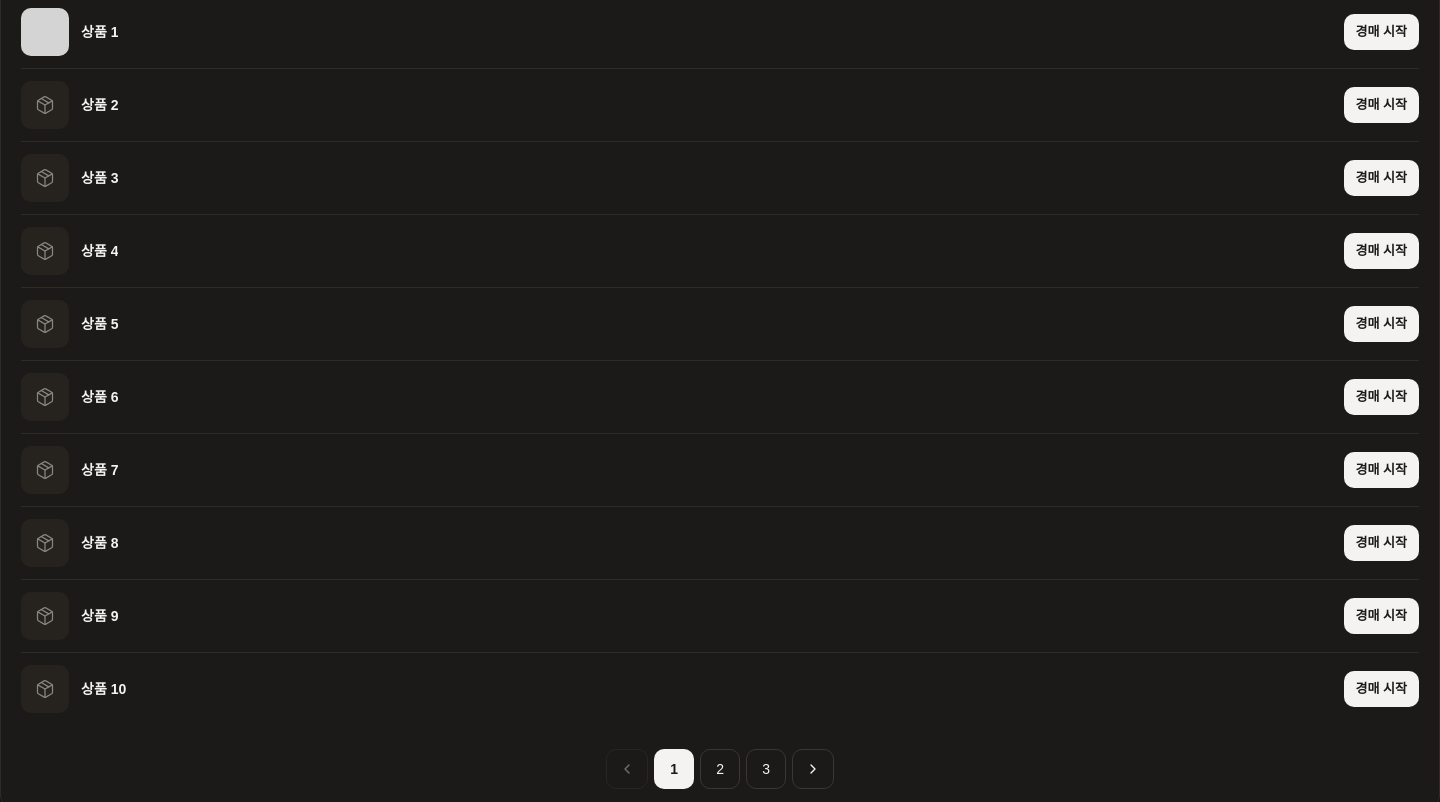
스튜디오 경매 상품 목록 › 판매 중인 상품을 10개씩 페이지로 보여 주고, 대표 이미지를 붙이며, 카테고리로 거른다
(page scrolled)
Click the button named "다음 페이지".
click(813, 769)  # box [792, 749, 834, 789]
(page scrolled)
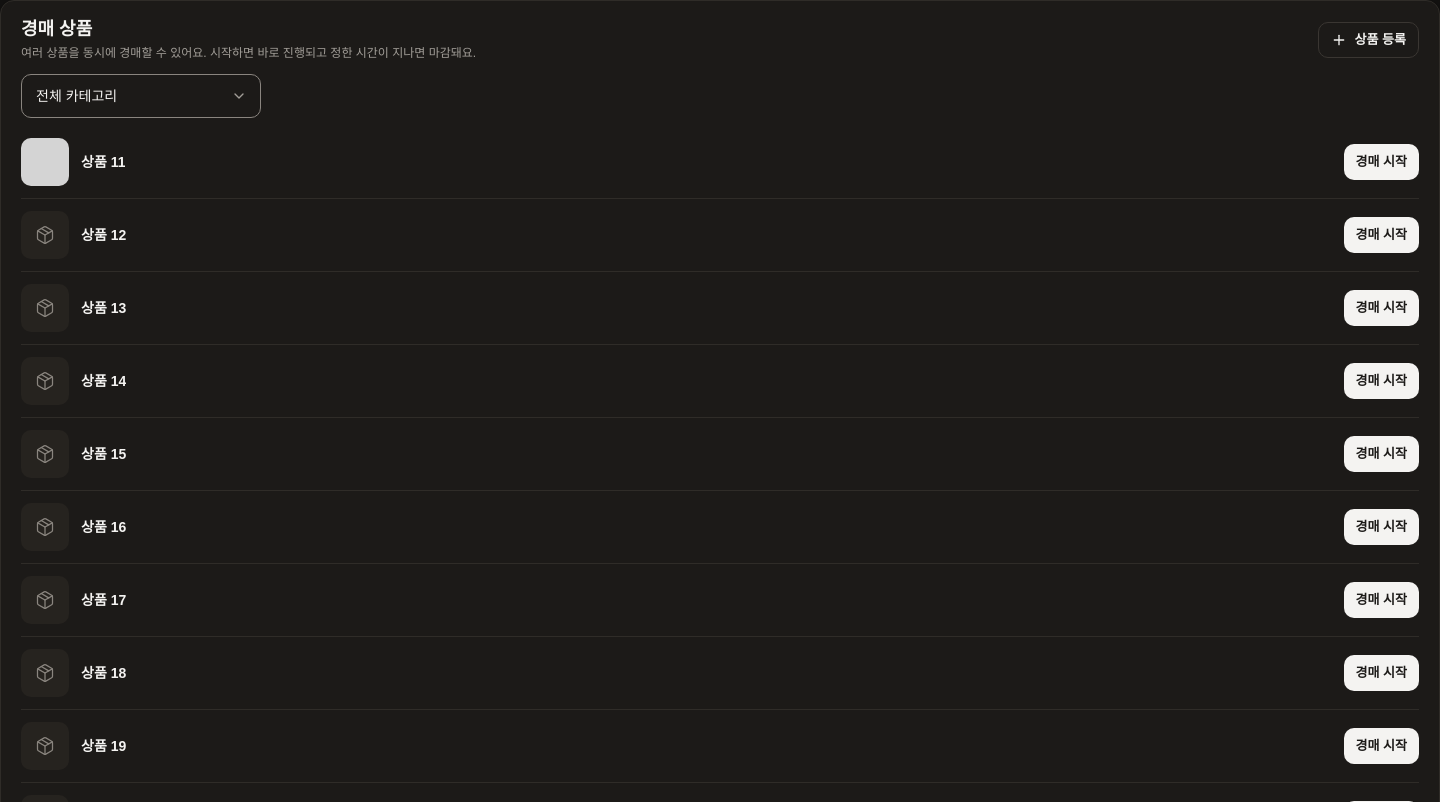
Check: the text "상품 11" is shown, box [81, 151, 126, 173]
# 카테고리를 고르면 첫 페이지부터 그 카테고리 상품만
Select "카메라" in the dropdown named "카테고리로 거르기" at [141, 96], box [21, 74, 261, 118]
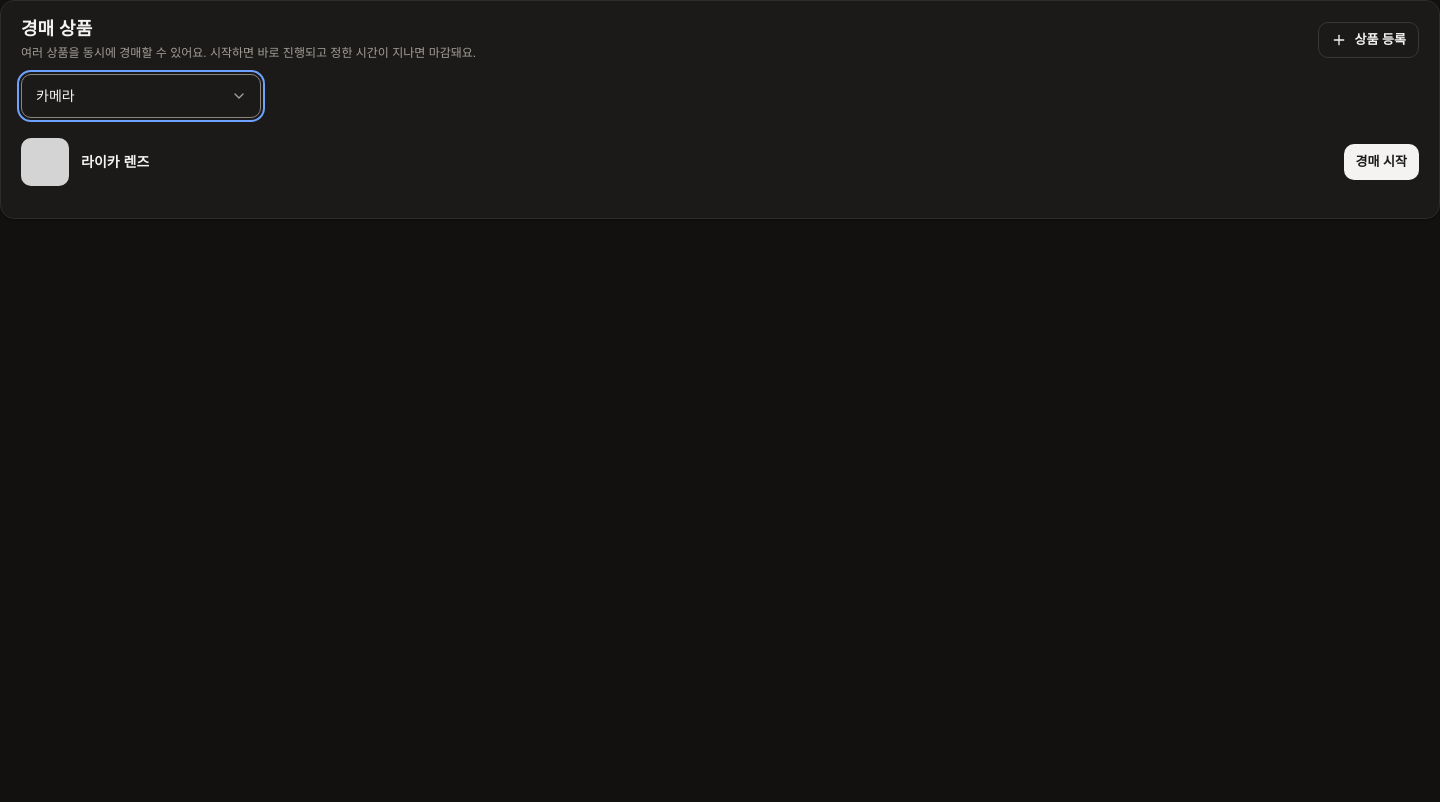
Check: the text "라이카 렌즈" is shown, box [81, 151, 149, 173]
